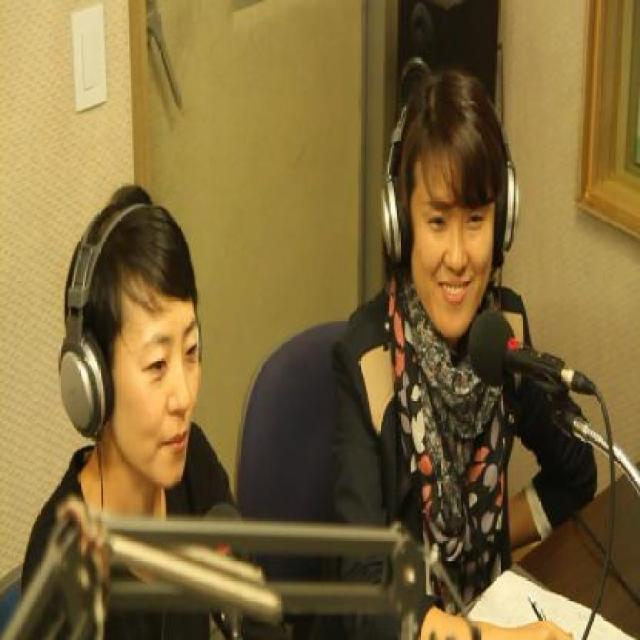earphone: (372, 70, 536, 262), (50, 200, 135, 425)
